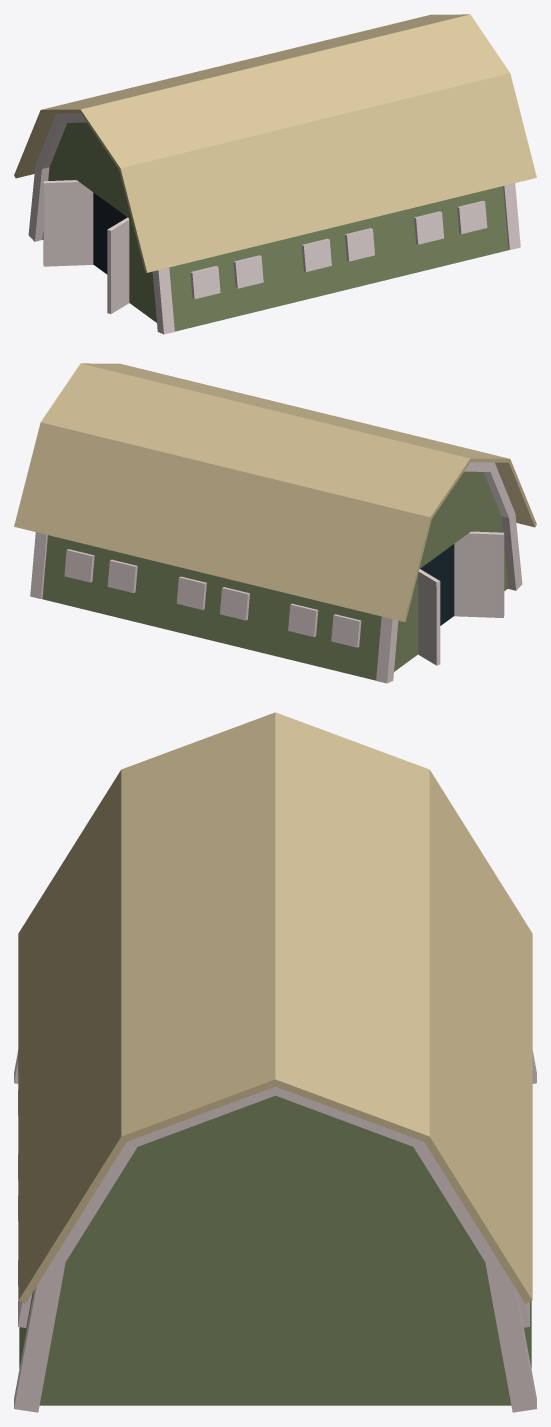
Rendered from CountryHouse06.fbx.
The picture shows the model from 3 angles, top to bottom: view 1: azimuth 30°, elevation 25°; view 2: azimuth 150°, elevation 25°; view 3: azimuth 270°, elevation 25°; orthographic projection. The views are drawn at different scales.
Visible parts, largest first — view 1: CountryHouse06; view 2: CountryHouse06; view 3: CountryHouse06.
Boxes of the visible parts, x1,y1,x2,y2 form: CountryHouse06: [14, 14, 536, 334]; CountryHouse06: [14, 363, 536, 683]; CountryHouse06: [14, 712, 536, 1412].
Bounding box in the file's own units: 122 × 72.78 × 53.68.
